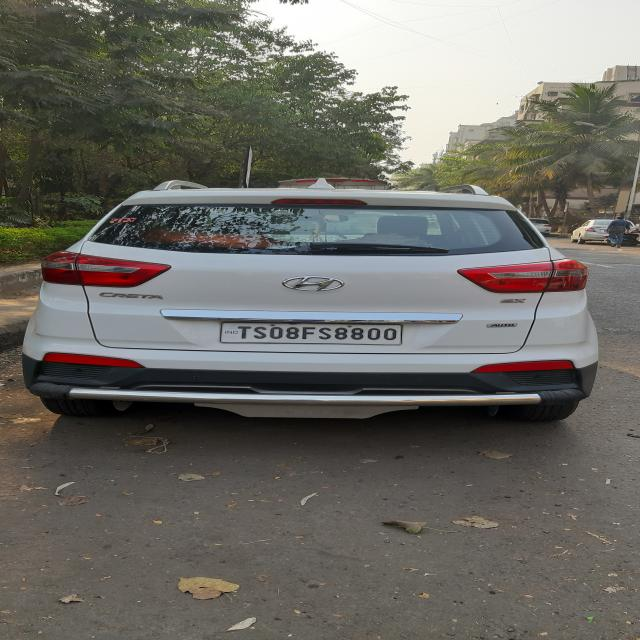Number-Plate: (217, 324, 400, 344)
